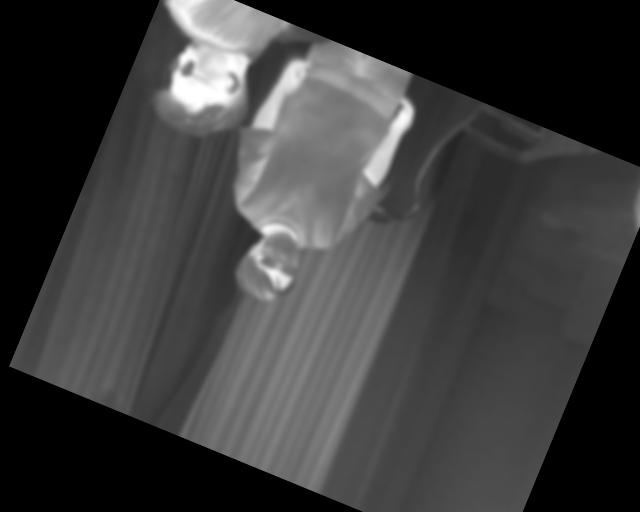face: (228, 219, 312, 311)
